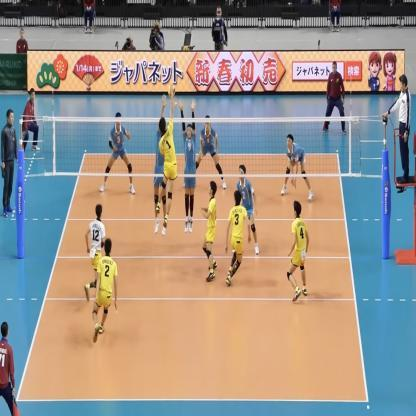spike: (152, 80, 182, 233)
